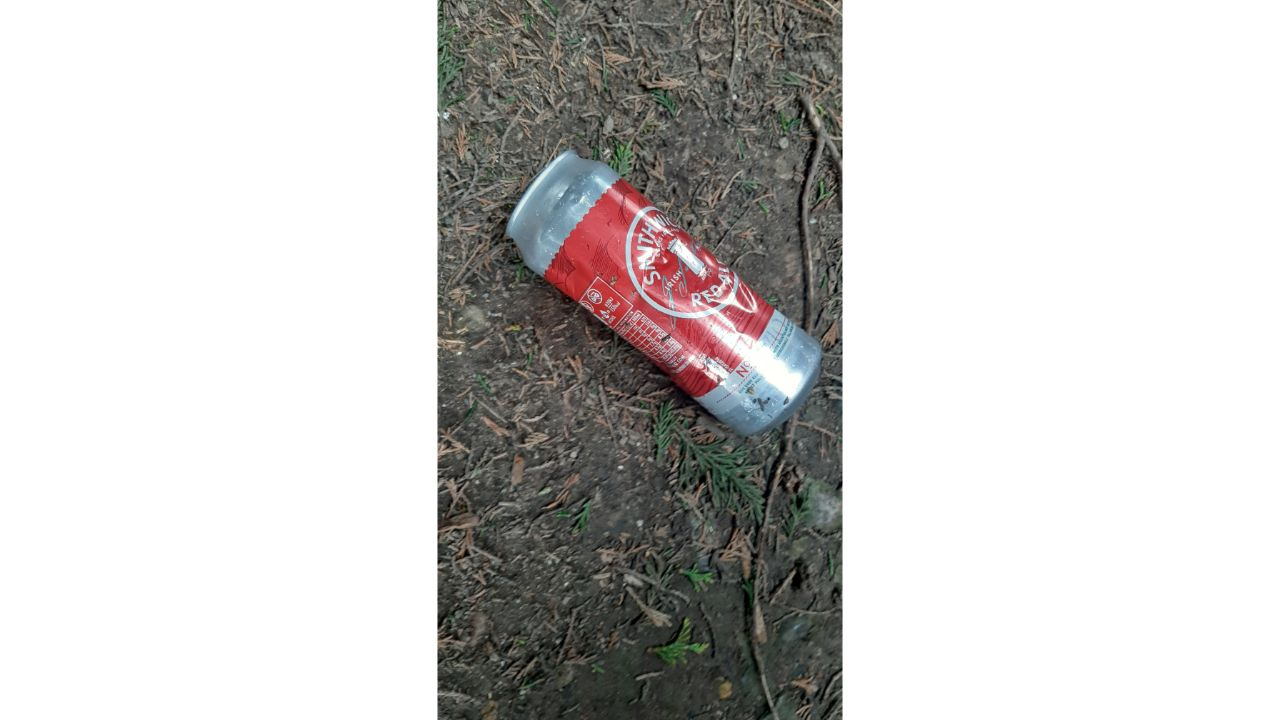Can: (505, 149, 825, 434)
